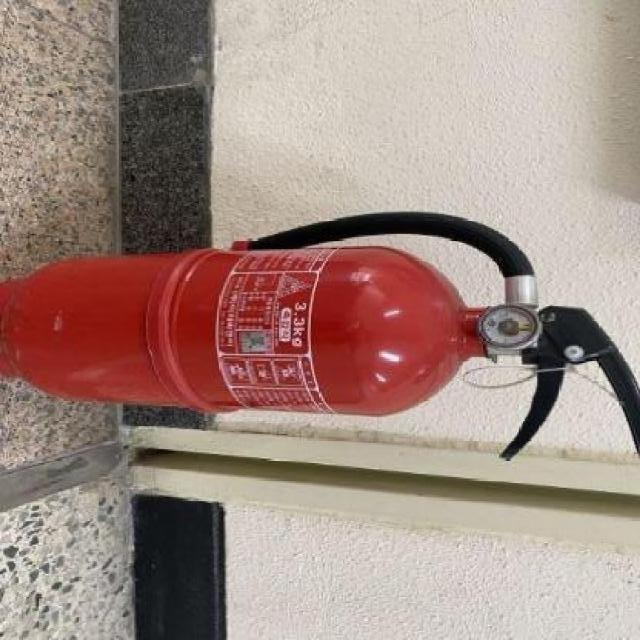fire extinguisher: (0, 211, 640, 460)
